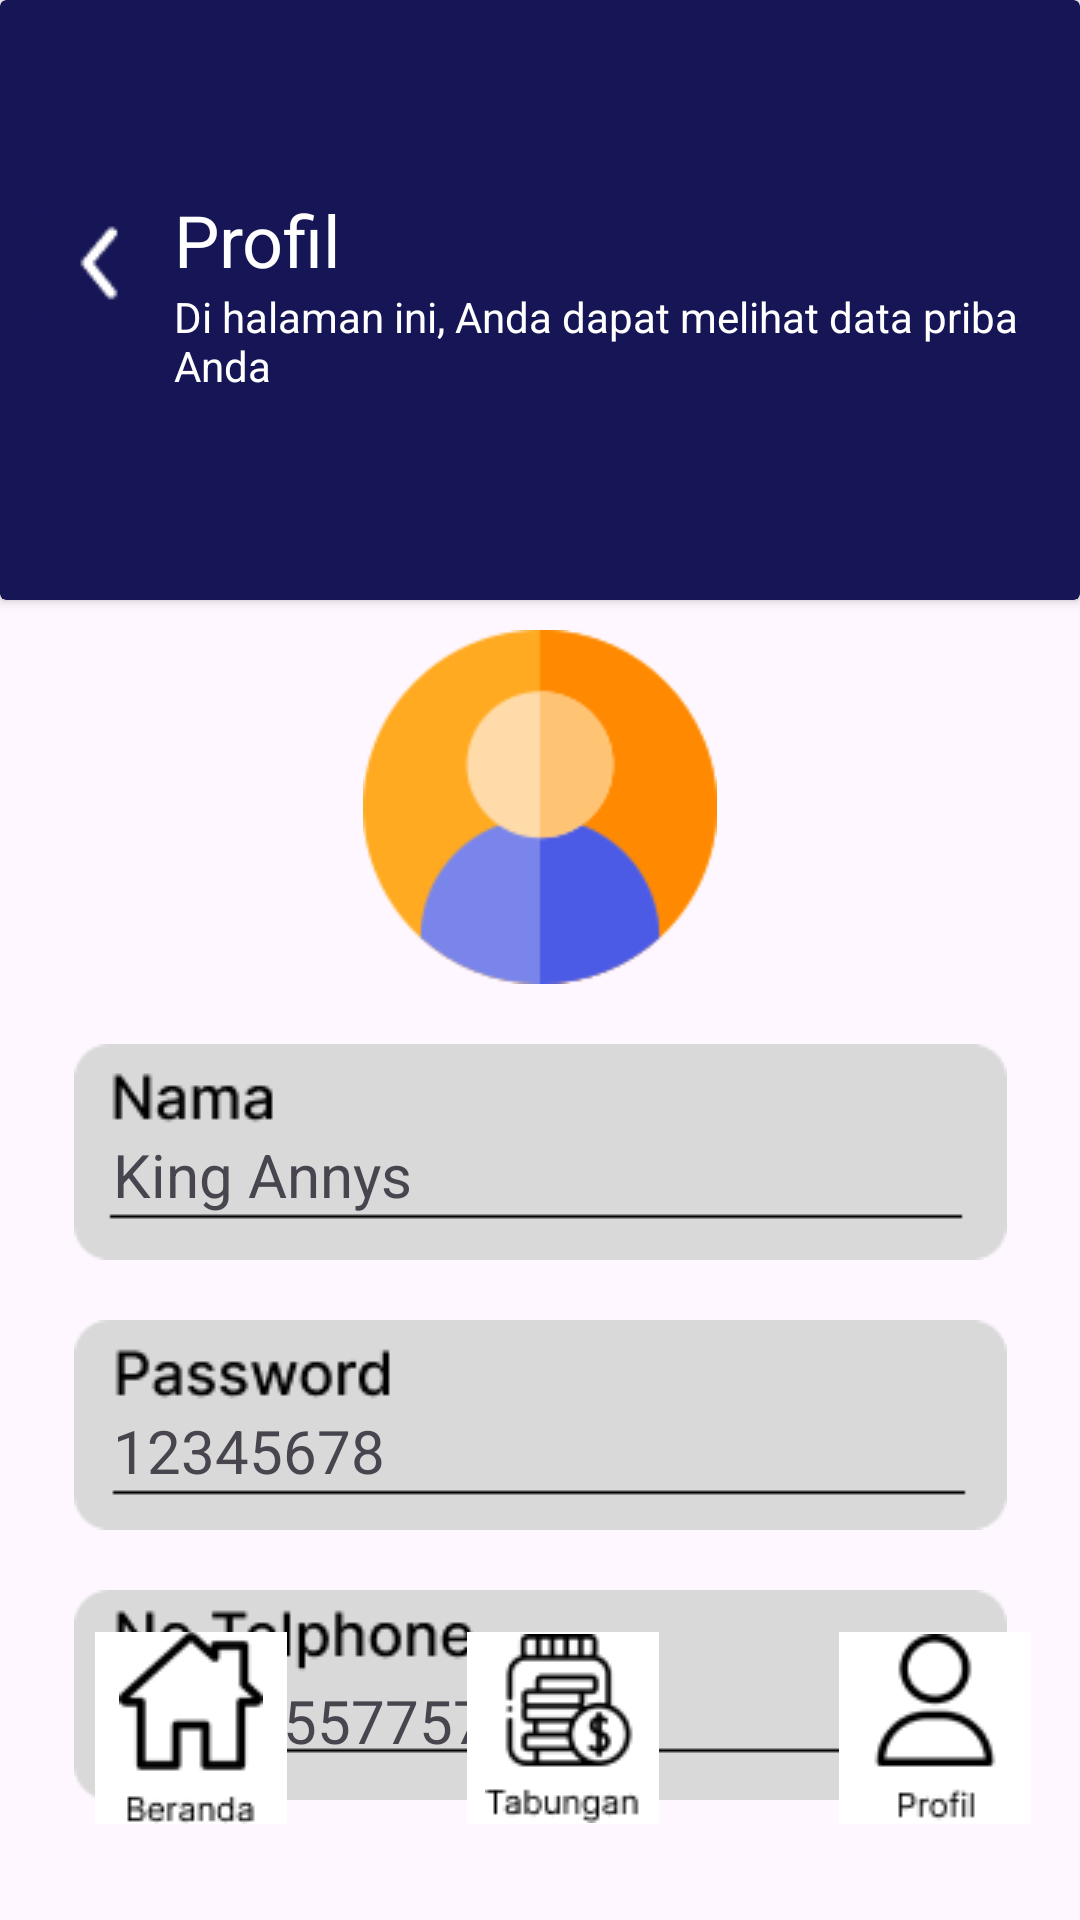

Icons on this 1080px×1920px Android screen, each with the point to tap as (x,y):
back: (99,263)
profiluser: (540,807)
